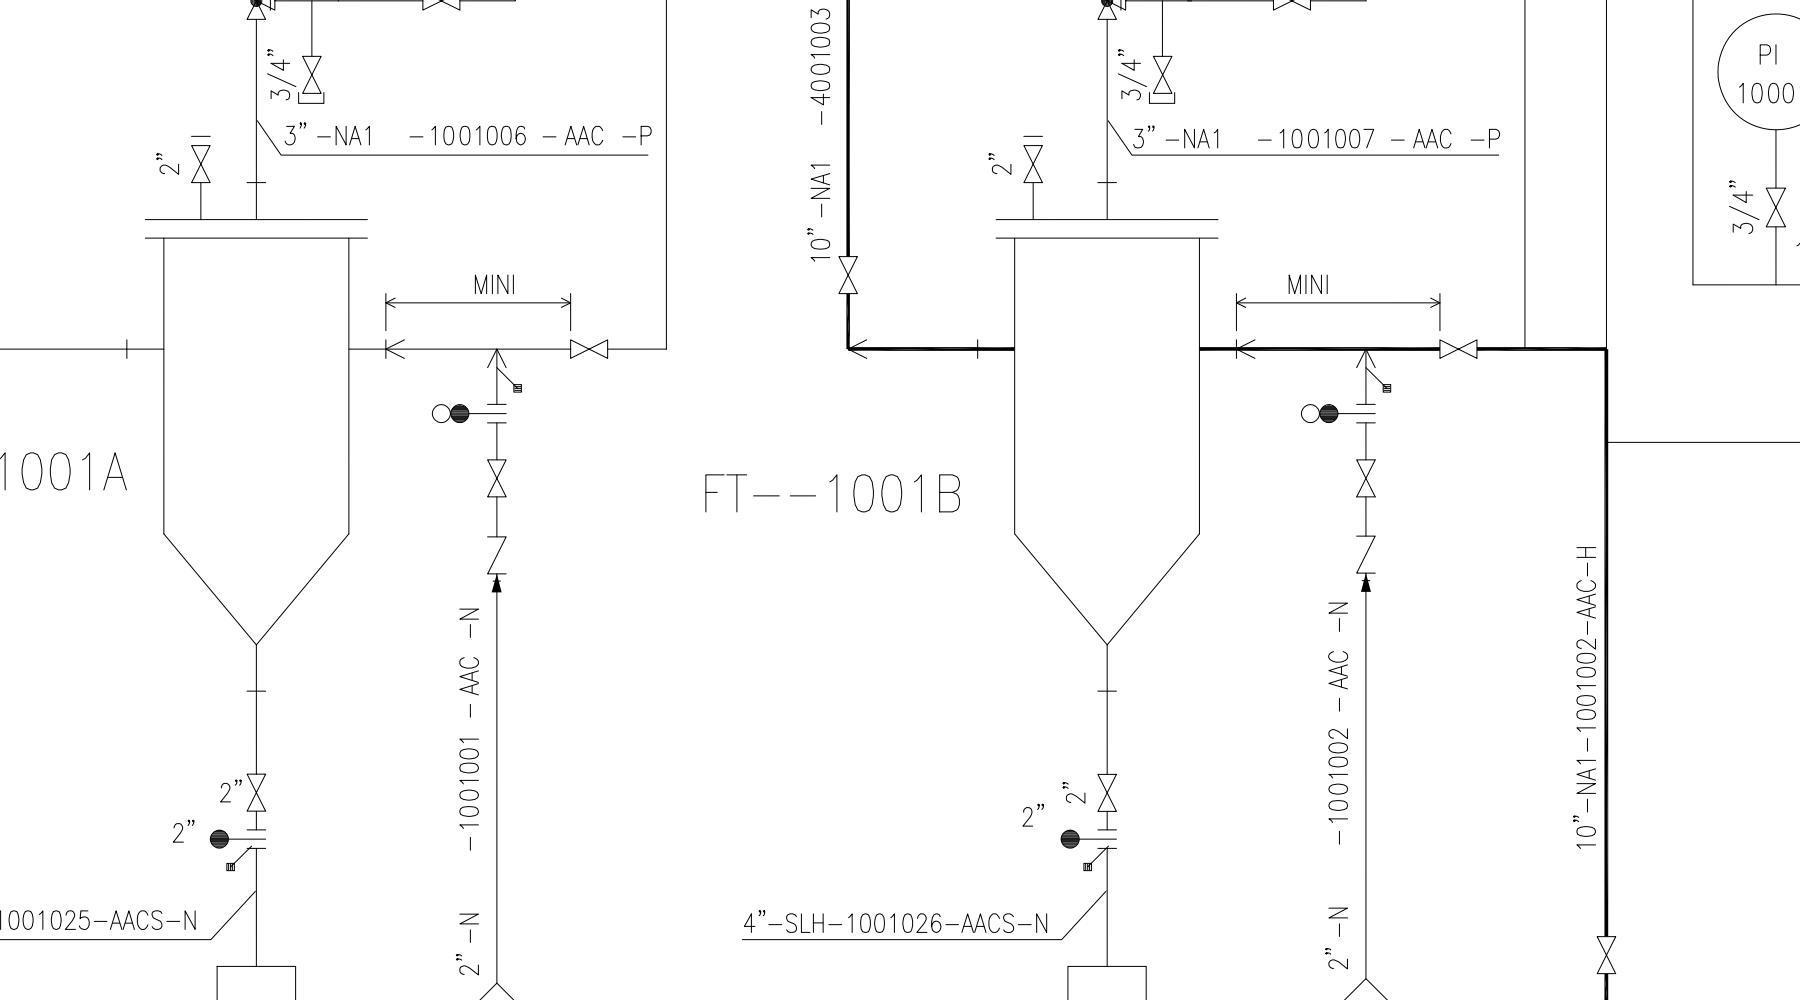EC: (291, 41, 330, 108), (1144, 41, 1182, 110)
FT2: (134, 207, 378, 660), (987, 211, 1226, 650)
GV: (241, 765, 272, 820), (561, 334, 618, 363), (1093, 767, 1122, 821), (1018, 140, 1048, 190), (480, 453, 511, 500), (1433, 334, 1484, 362), (186, 140, 214, 190), (1356, 451, 1381, 502), (835, 251, 861, 299), (1593, 930, 1619, 978), (1762, 182, 1786, 230), (299, 52, 324, 95), (1152, 52, 1173, 96)
